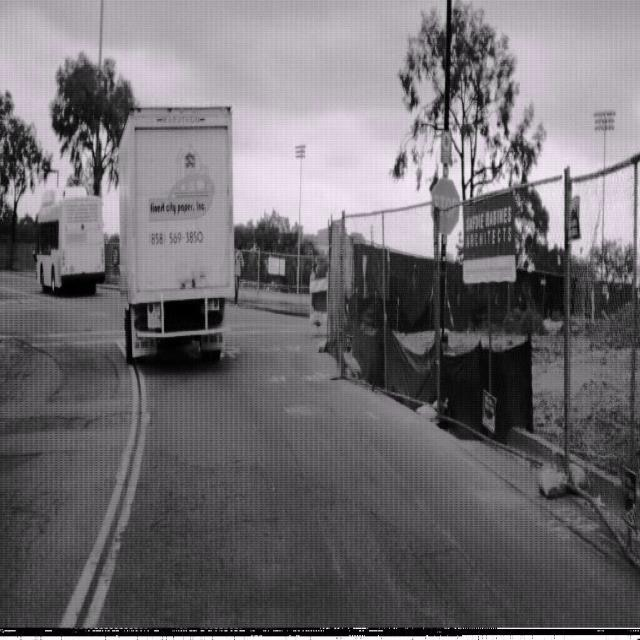stop: (430, 175, 460, 237)
